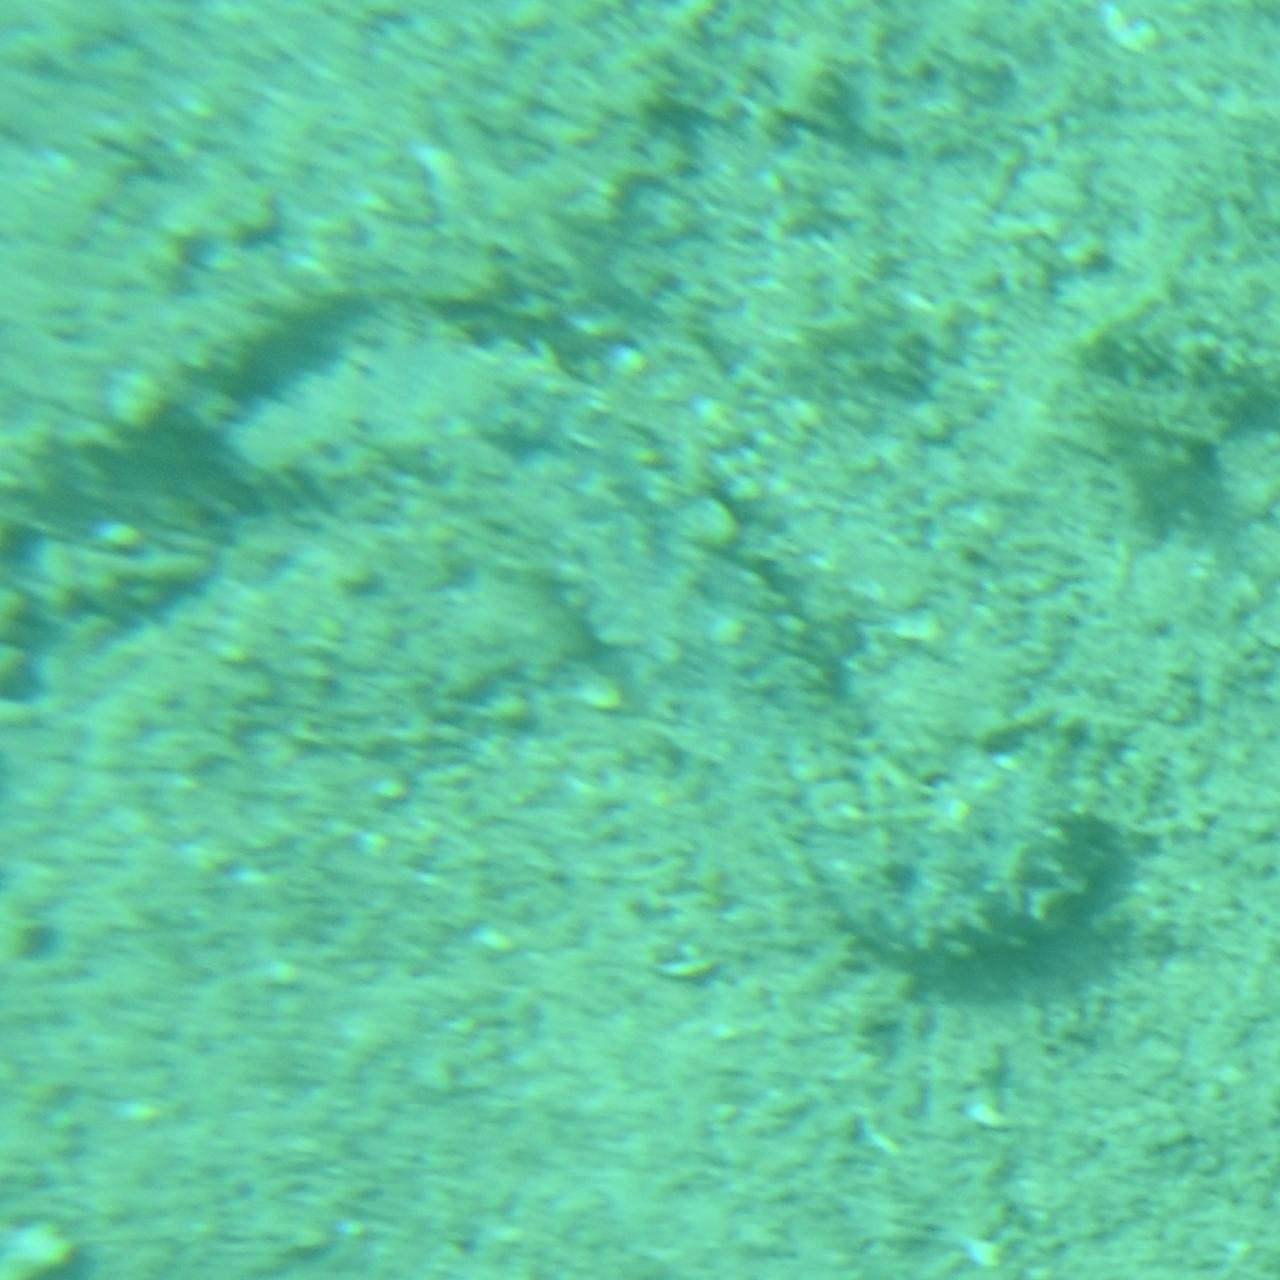Holothuria tubulosa: (3, 258, 1132, 1022)
